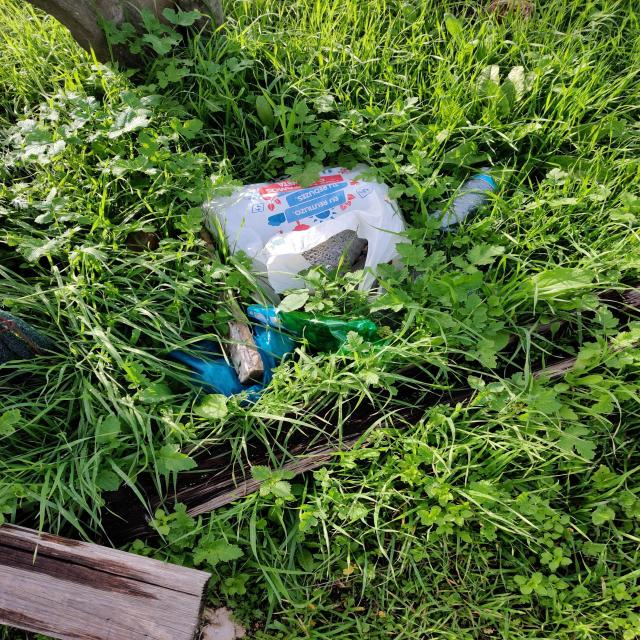litter: (187, 155, 428, 309), (156, 302, 405, 403)
